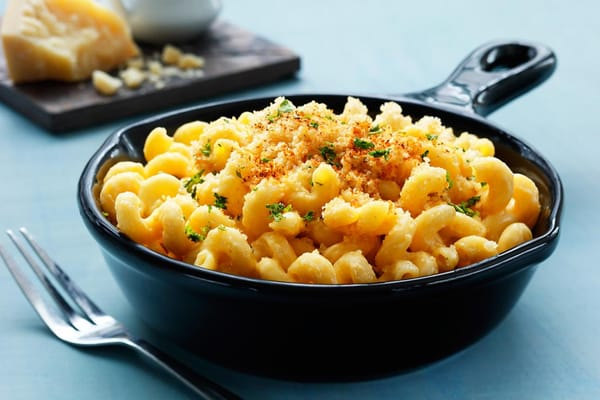sushi: (76, 87, 567, 389)
